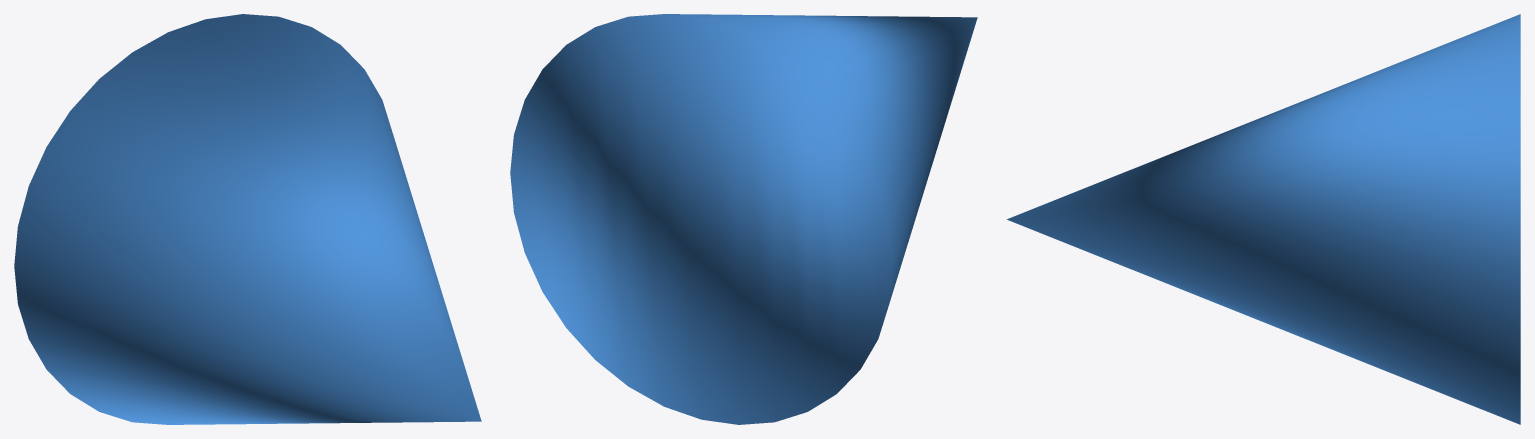
File: expected.gltf
3 renders of one model, left to right at view 1: azimuth 30°, elevation 25°; view 2: azimuth 150°, elevation 25°; view 3: azimuth 270°, elevation 25°, orthographic. The views are drawn at different scales.
Bounding box in the file's own units: 24 × 24 × 30.
